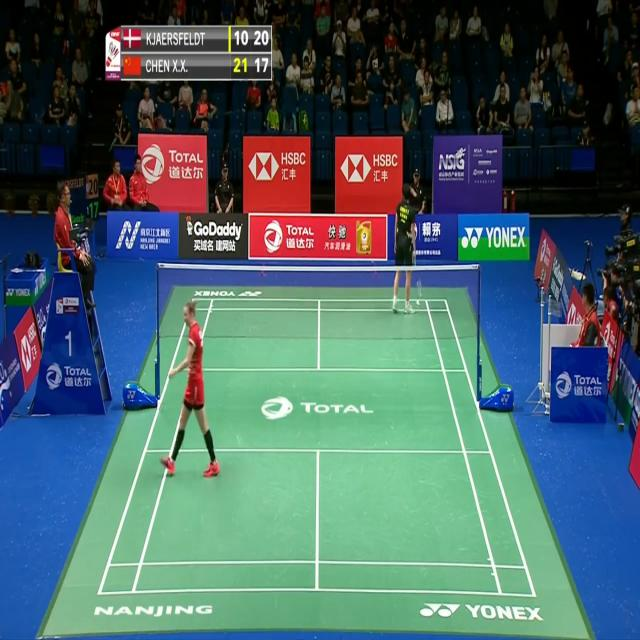Player1: (158, 300, 226, 480)
Player2: (390, 180, 424, 318)
